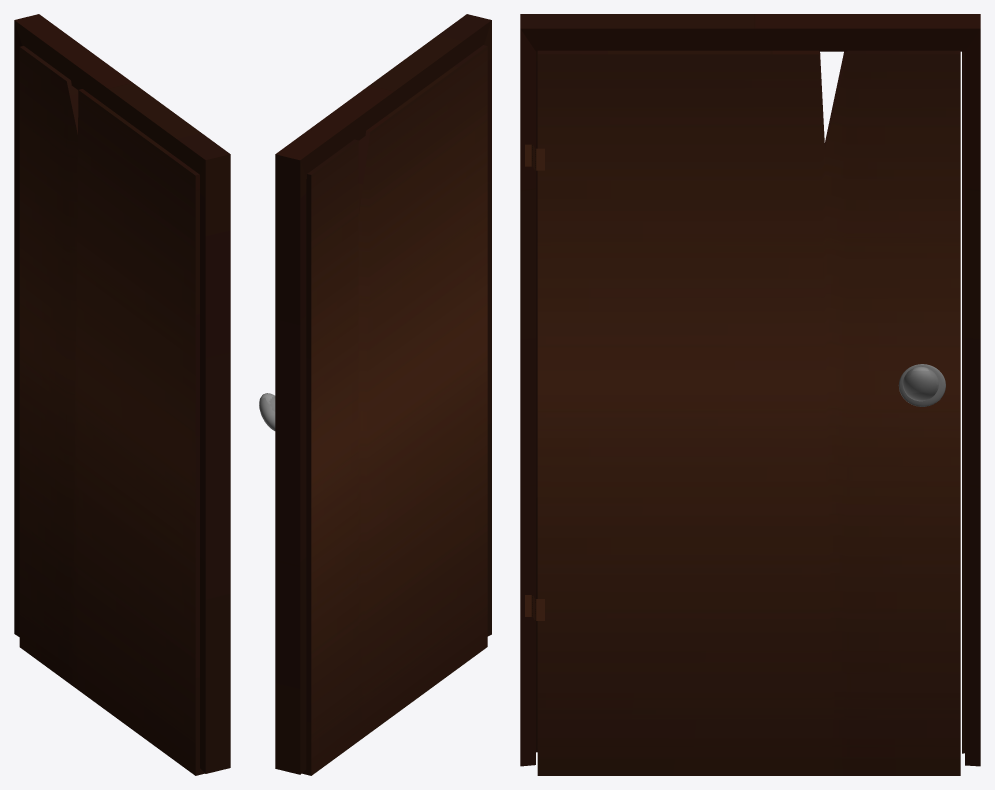
Rendered from puertacontextura.fbx.
The picture shows the model from 3 angles, left to right: view 1: azimuth 30°, elevation 25°; view 2: azimuth 150°, elevation 25°; view 3: azimuth 270°, elevation 25°; orthographic projection. The views are drawn at different scales.
Parts seen in each view (by area): view 1: pCube3; view 2: pCube3; view 3: pCube3.
Boxes of the visible parts, <box> form: pCube3: <box>14,14,230,775</box>; pCube3: <box>259,14,491,775</box>; pCube3: <box>520,14,980,775</box>.
Size of the model in its own units: 39.16 by 348 by 194.
1 material, 1 textured.
